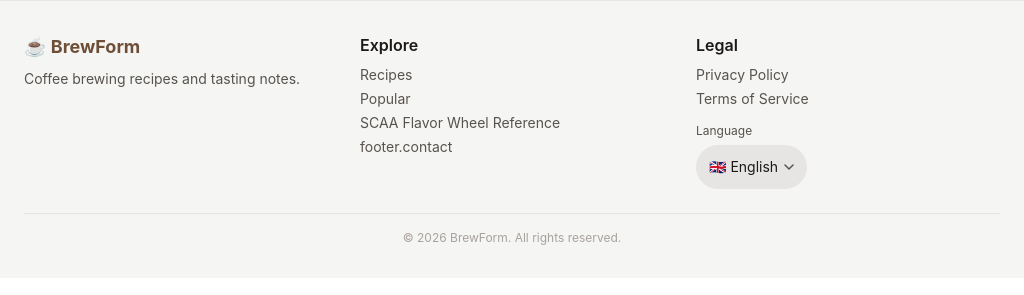
Test: Footer — Language Switcher › renders language selector with correct options when availableLocales = ["en", "tr"]
Click the dropdown.
click(752, 167)  # box left=696, top=145, right=807, bottom=189
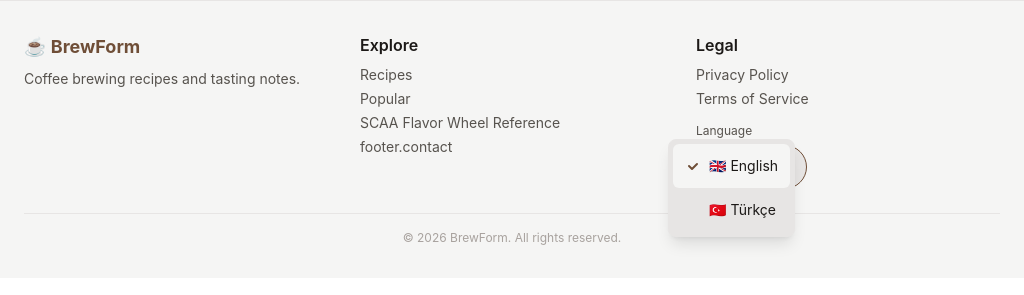
Expected: the number of options is 2, left=673, top=144, right=790, bottom=188; left=709, top=201, right=776, bottom=218
Expected: the option "🇬🇧 English" is shown, left=673, top=144, right=790, bottom=188
Expected: the option "🇹🇷 Türkçe" is shown, left=709, top=201, right=776, bottom=218
